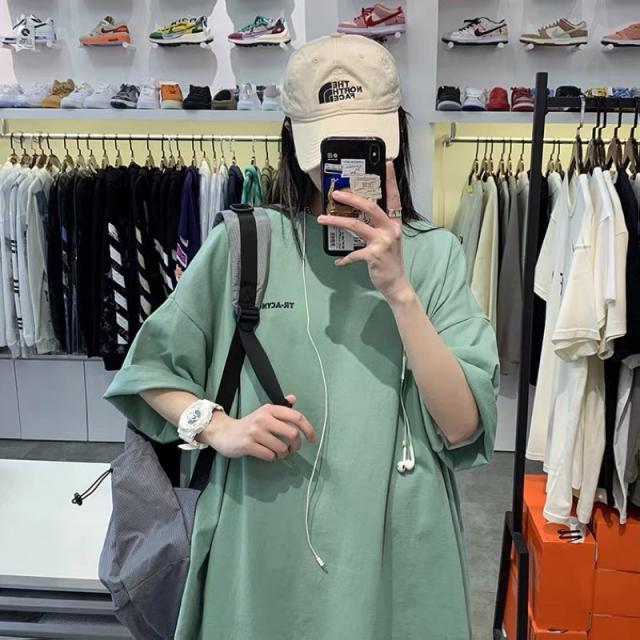Shirt: (101, 205, 502, 640)
